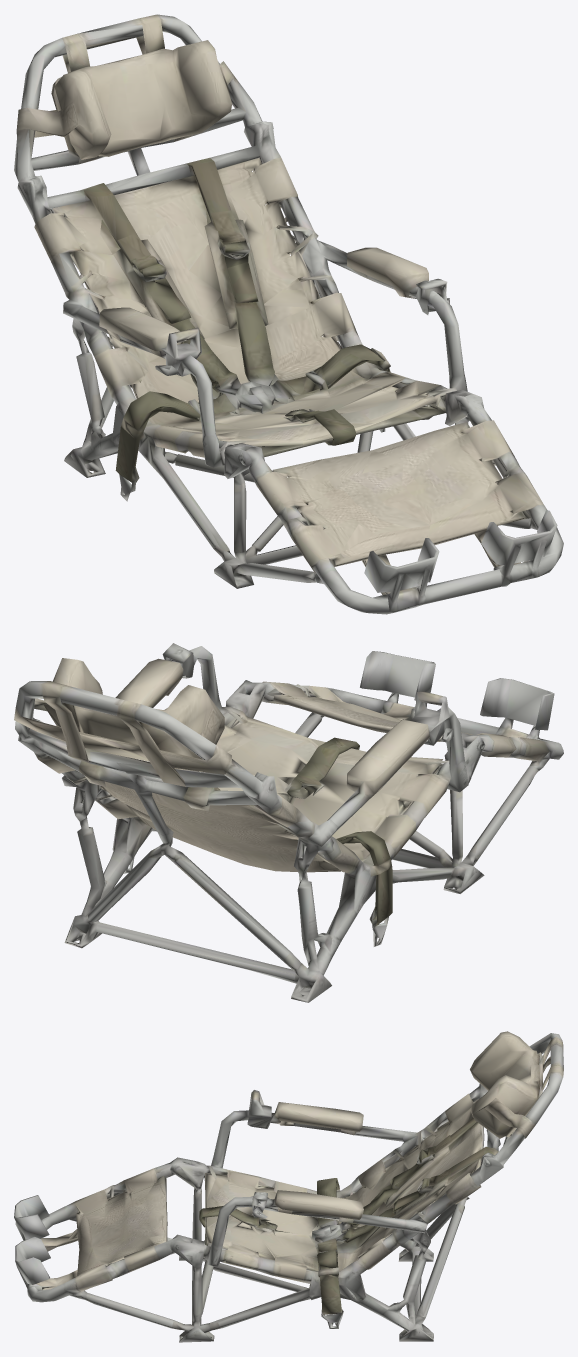
Rendered from apollo_couch.glb.
The picture shows the model from 3 angles, top to bottom: view 1: azimuth 30°, elevation 25°; view 2: azimuth 150°, elevation 25°; view 3: azimuth 270°, elevation 25°; orthographic projection. The views are drawn at different scales.
Parts seen in each view (by area): view 1: tripo_node_4ca4c6c4-d57e-42f8-8a80-565de57e861e; view 2: tripo_node_4ca4c6c4-d57e-42f8-8a80-565de57e861e; view 3: tripo_node_4ca4c6c4-d57e-42f8-8a80-565de57e861e.
Boxes of the visible parts, bbox=[...] form: tripo_node_4ca4c6c4-d57e-42f8-8a80-565de57e861e: bbox=[14, 14, 563, 614]; tripo_node_4ca4c6c4-d57e-42f8-8a80-565de57e861e: bbox=[14, 643, 563, 1002]; tripo_node_4ca4c6c4-d57e-42f8-8a80-565de57e861e: bbox=[14, 1031, 563, 1342].
Bounding box in the file's own units: 0.8516 × 0.9501 × 1.9.
1 material, 1 textured.
